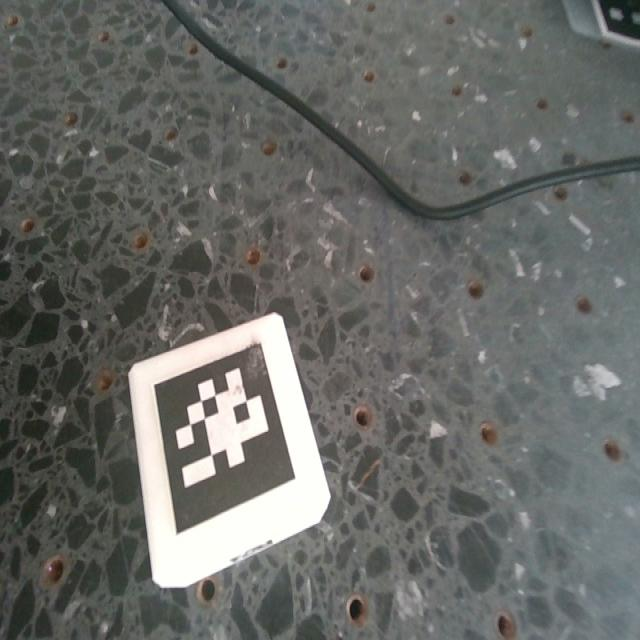Cube: (127, 315, 329, 592)
